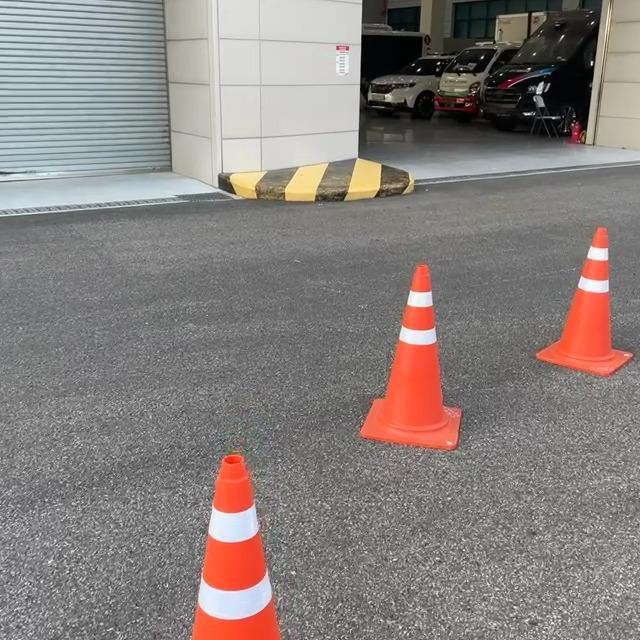fallen_object: (109, 416, 345, 640), (329, 267, 499, 531), (526, 219, 628, 429)
